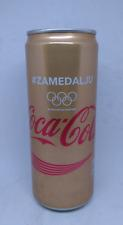metal: (27, 29, 98, 212)
